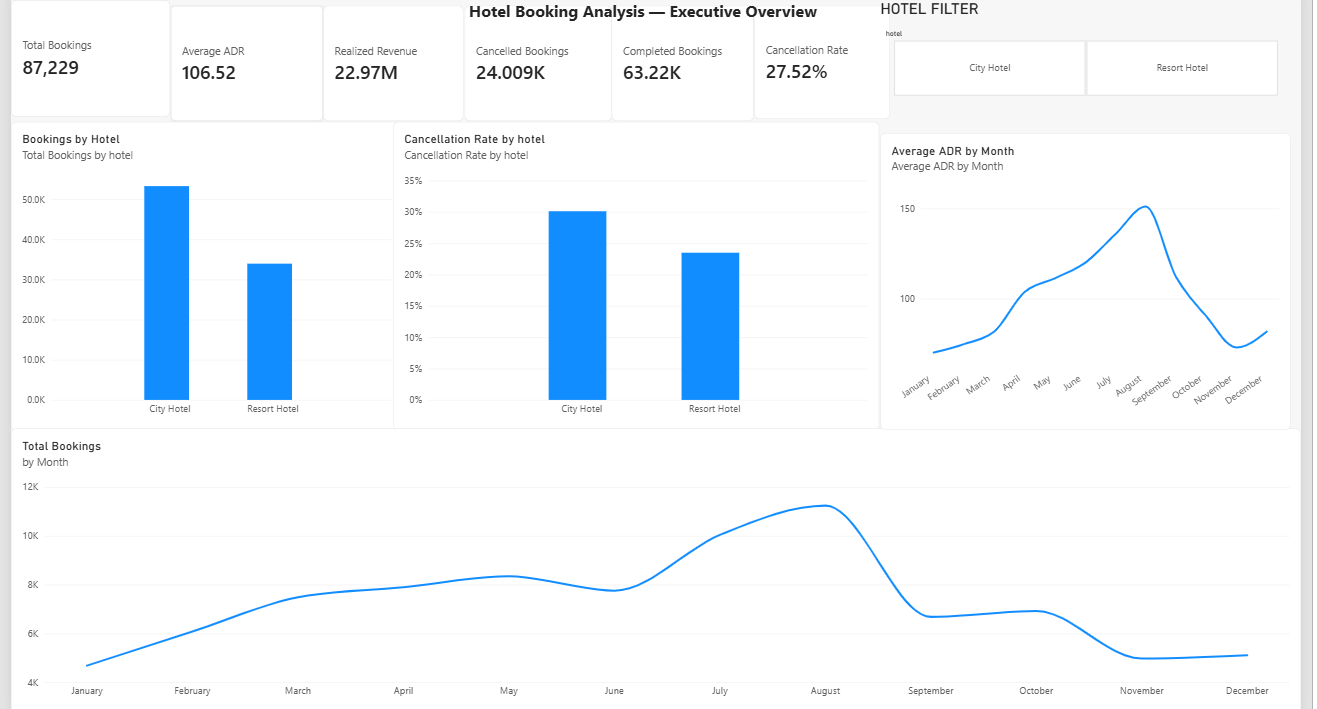

Layout of this report page (visuals, bound fields, positions):
{"tool":"powerbi","page":{"name":"Executive Overview","canvas":[1920,1080],"ordinal":0},"visuals":[{"type":"cardVisual","fields":{"Data":["hotel_bookings_clean.Total Bookings"]},"box":[0,10.4,237.1,174.7],"z":0},{"type":"cardVisual","fields":{"Data":["hotel_bookings_clean.Cancelled Bookings"]},"box":[675.3,18.8,219.6,172.2],"z":1000},{"type":"cardVisual","fields":{"Data":["hotel_bookings_clean.Completed Bookings"]},"box":[894.2,18.8,212.1,172.2],"z":2000},{"type":"cardVisual","fields":{"Data":["hotel_bookings_clean.Cancellation Rate"]},"box":[1106.8,18.8,202.2,169.7],"z":3000},{"type":"cardVisual","fields":{"Data":["hotel_bookings_clean.Average ADR"]},"box":[237.6,18.8,227.1,172.2],"z":4000},{"type":"cardVisual","fields":{"Data":["hotel_bookings_clean.Realized Revenue"]},"box":[464.8,18.8,209.7,172.2],"z":5000},{"type":"clusteredColumnChart","title":"Bookings by Hotel","fields":{"Category":["hotel_bookings_clean.hotel"],"Y":["hotel_bookings_clean.Total Bookings"]},"box":[0,191.8,584,459.2],"z":6000},{"type":"clusteredColumnChart","title":"Cancellation Rate by hotel","fields":{"Category":["hotel_bookings_clean.hotel"],"Y":["hotel_bookings_clean.Cancellation Rate"]},"box":[569,191.8,723.8,459.2],"z":7000},{"type":"lineChart","fields":{"Category":["hotel_bookings_clean.arrival_date.Variation.Date Hierarchy.Month"],"Y":["hotel_bookings_clean.Total Bookings"]},"box":[0,649.2,1921,423.2],"z":8000},{"type":"lineChart","title":"Average ADR by Month","fields":{"Category":["hotel_bookings_clean.arrival_date_month"],"Y":["hotel_bookings_clean.Average ADR"]},"box":[1293.5,209.2,610.7,442.4],"z":9000},{"type":"slicer","title":"HOTEL FILTER","fields":{"Values":["hotel_bookings_clean.hotel"]},"box":[1293.5,9.6,610.7,144.3],"z":10000},{"type":"textbox","box":[681.6,10.4,554.4,79.2],"z":12000}]}

Visuals, with their boxes on the page's 1920x1080 design canvas (x1, y1, x2, y2). These are canvas units, not pixel positions in the 1317x709 screenshot, which may show the page scaled, cropped or inside an application window:
cardVisual - hotel_bookings_clean.Total Bookings: l=0, t=10, r=237, b=185
cardVisual - hotel_bookings_clean.Cancelled Bookings: l=675, t=19, r=895, b=191
cardVisual - hotel_bookings_clean.Completed Bookings: l=894, t=19, r=1106, b=191
cardVisual - hotel_bookings_clean.Cancellation Rate: l=1107, t=19, r=1309, b=188
cardVisual - hotel_bookings_clean.Average ADR: l=238, t=19, r=465, b=191
cardVisual - hotel_bookings_clean.Realized Revenue: l=465, t=19, r=674, b=191
"Bookings by Hotel" clusteredColumnChart: l=0, t=192, r=584, b=651
"Cancellation Rate by hotel" clusteredColumnChart: l=569, t=192, r=1293, b=651
lineChart - hotel_bookings_clean.arrival_date.Variation.Date Hierarchy.Month x hotel_bookings_clean.Total Bookings: l=0, t=649, r=1921, b=1072
"Average ADR by Month" lineChart: l=1294, t=209, r=1904, b=652
"HOTEL FILTER" slicer: l=1294, t=10, r=1904, b=154
textbox: l=682, t=10, r=1236, b=90
